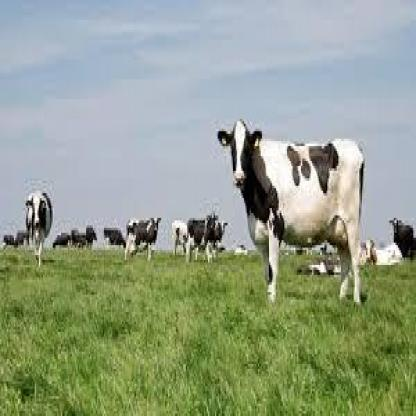cow: (218, 116, 364, 310), (24, 193, 53, 270), (126, 215, 162, 265), (187, 213, 218, 265), (390, 216, 413, 258), (362, 241, 402, 264), (172, 222, 189, 256), (104, 229, 126, 249)
